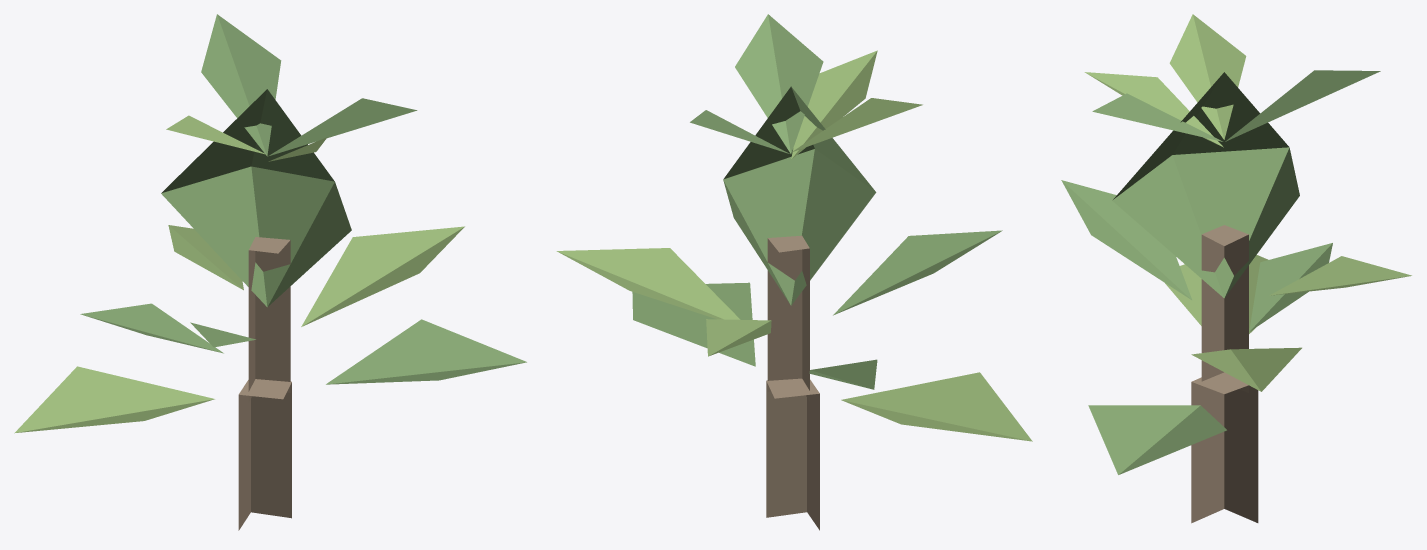
Rendered from hua.mei@seedling__bloom.glb.
3 views of the same model, side by side, from view 1: azimuth 30°, elevation 25°; view 2: azimuth 150°, elevation 25°; view 3: azimuth 270°, elevation 25° (orthographic). The views are drawn at different scales.
Parts seen in each view (by area): view 1: hua.mei@seedling__bloom; view 2: hua.mei@seedling__bloom; view 3: hua.mei@seedling__bloom.
Part boxes in pixels (box(x1,y1,x2,y2)): hua.mei@seedling__bloom: box(14, 14, 526, 530); hua.mei@seedling__bloom: box(556, 14, 1032, 530); hua.mei@seedling__bloom: box(1061, 14, 1411, 523).
Size of the model in its own units: 0.3765 by 0.3489 by 0.239.
